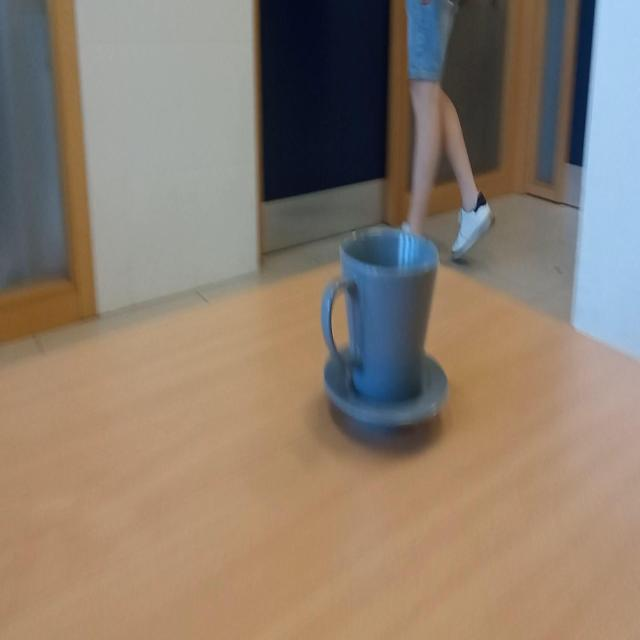cup: (323, 231, 441, 429)
